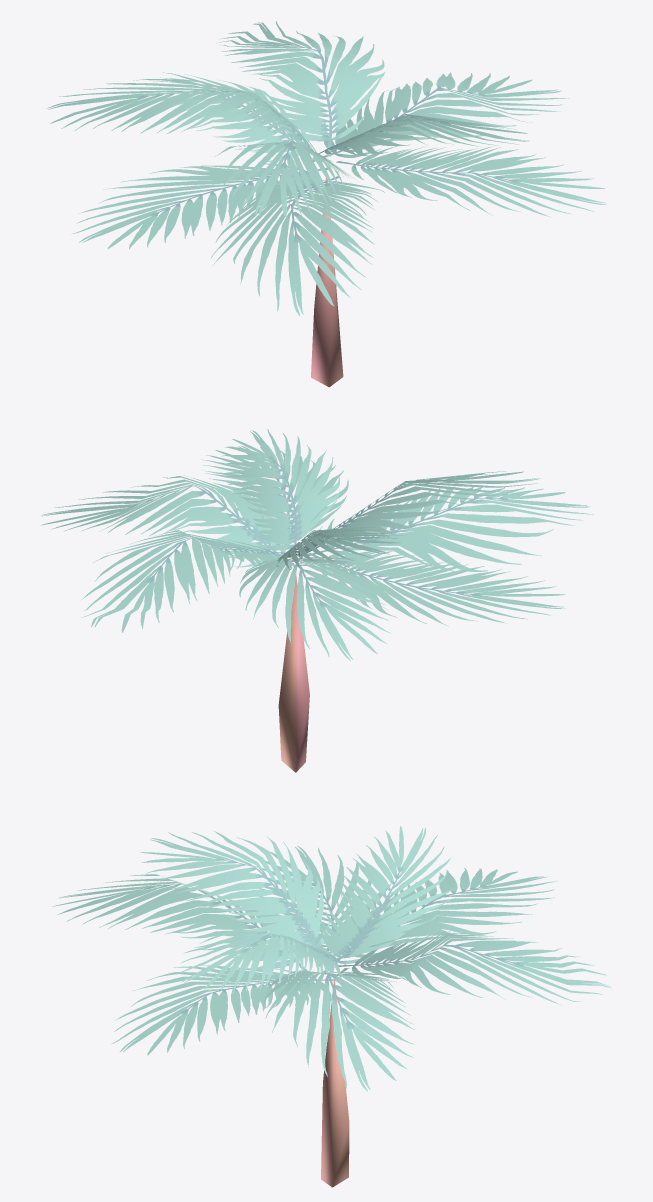
The model's file is lod2palmtree1.fbx.
The picture shows the model from 3 angles, top to bottom: view 1: azimuth 30°, elevation 25°; view 2: azimuth 150°, elevation 25°; view 3: azimuth 270°, elevation 25°; orthographic projection. The views are drawn at different scales.
Visible parts, largest first — view 1: leaf2.035; view 2: leaf2.035; view 3: leaf2.035.
Part boxes in pixels (x1=…): leaf2.035: x1=47, y1=21, x2=606, y2=387; leaf2.035: x1=41, y1=429, x2=593, y2=772; leaf2.035: x1=51, y1=826, x2=611, y2=1187.
Size of the model in its own units: 486 by 263 by 511.
